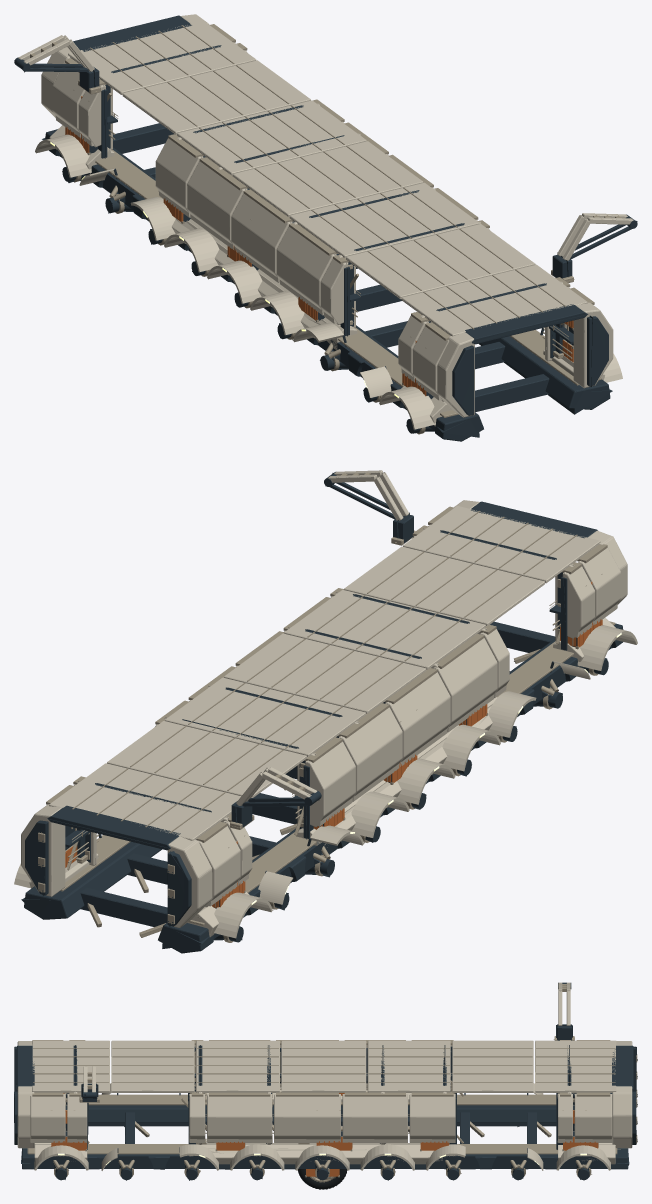
The model's file is carrier-kit.glb.
3 renders of one model, top to bottom at view 1: azimuth 30°, elevation 25°; view 2: azimuth 150°, elevation 25°; view 3: azimuth 270°, elevation 25°, orthographic. The views are drawn at different scales.
Parts seen in each view (by area): view 1: nomad_carrier__warm_ivory_armour, nomad_carrier__navy_structural_steel, nomad_carrier__rubbed_warm_alloy, nomad_carrier_far__warm_ivory_armour, nomad_carrier_far__navy_structural_steel, nomad_carrier_mid__navy_structural_steel, nomad_carrier__oxide_freight_enamel; view 2: nomad_carrier__warm_ivory_armour, nomad_carrier__navy_structural_steel, nomad_carrier__rubbed_warm_alloy, nomad_carrier_far__warm_ivory_armour, nomad_carrier_far__navy_structural_steel, nomad_carrier_mid__navy_structural_steel, nomad_carrier__oxide_freight_enamel; view 3: nomad_carrier__warm_ivory_armour, nomad_carrier__navy_structural_steel, nomad_carrier__rubbed_warm_alloy, nomad_carrier_far__warm_ivory_armour, nomad_carrier_far__navy_structural_steel, nomad_carrier__oxide_freight_enamel, nomad_carrier_mid__navy_structural_steel, nomad_carrier_mid__warm_ivory_armour, nomad_carrier_mid__rubbed_warm_alloy.
Part boxes in pixels (x1,y1,x2,y2): nomad_carrier__warm_ivory_armour: (18,14,633,428); nomad_carrier__navy_structural_steel: (14,15,637,441); nomad_carrier__rubbed_warm_alloy: (30,24,623,433); nomad_carrier_far__warm_ivory_armour: (18,23,622,429); nomad_carrier_far__navy_structural_steel: (14,45,637,437); nomad_carrier_mid__navy_structural_steel: (14,58,636,441); nomad_carrier__oxide_freight_enamel: (65,96,573,396); nomad_carrier__warm_ivory_armour: (14,470,637,937); nomad_carrier__navy_structural_steel: (24,472,623,953); nomad_carrier__rubbed_warm_alloy: (38,471,615,942); nomad_carrier_far__warm_ivory_armour: (14,472,637,938); nomad_carrier_far__navy_structural_steel: (21,473,607,948); nomad_carrier_mid__navy_structural_steel: (38,472,622,953); nomad_carrier__oxide_freight_enamel: (65,582,602,907); nomad_carrier__warm_ivory_armour: (17,982,632,1170); nomad_carrier__navy_structural_steel: (14,982,637,1180); nomad_carrier__rubbed_warm_alloy: (28,984,637,1177); nomad_carrier_far__warm_ivory_armour: (18,991,631,1170); nomad_carrier_far__navy_structural_steel: (14,983,636,1180); nomad_carrier__oxide_freight_enamel: (51,1093,598,1150); nomad_carrier_mid__navy_structural_steel: (27,982,637,1180); nomad_carrier_mid__warm_ivory_armour: (18,983,631,1162); nomad_carrier_mid__rubbed_warm_alloy: (53,1039,591,1177).
Size of the model in its own units: 317 by 209 by 745.
